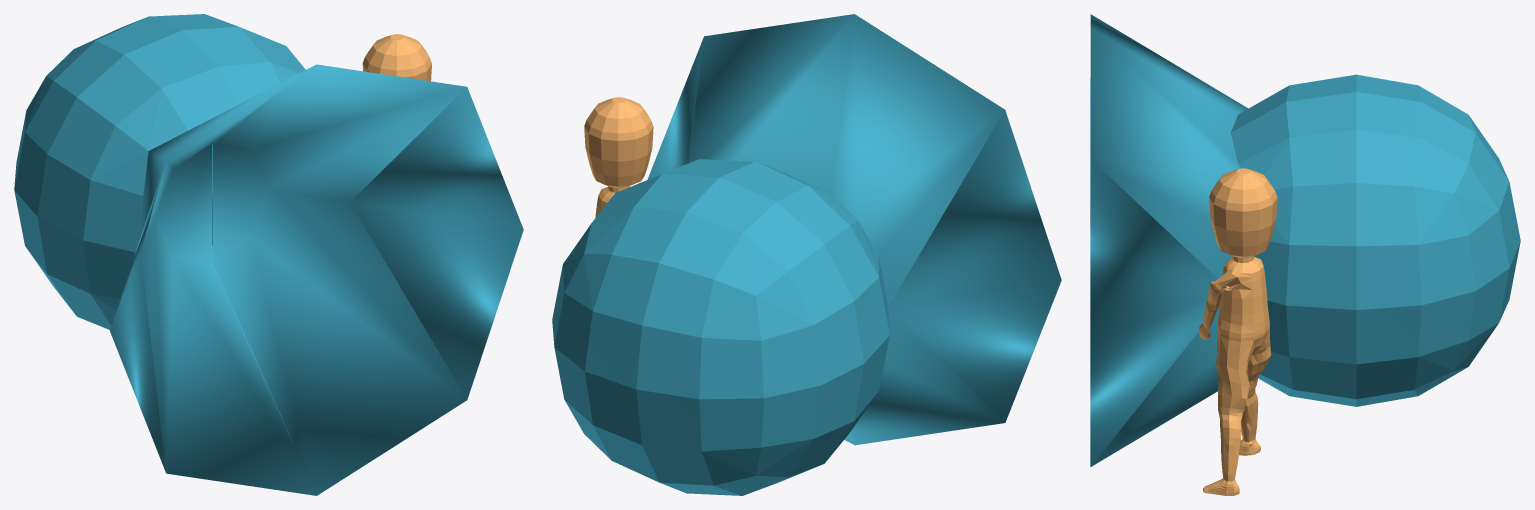
File: collect.obj
3 renders of one model, left to right at view 1: azimuth 30°, elevation 25°; view 2: azimuth 150°, elevation 25°; view 3: azimuth 270°, elevation 25°, orthographic.
Parts seen in each view (by area): view 1: 立方体.001, 胴_円.003; view 2: 立方体.001, 胴_円.003; view 3: 立方体.001, 胴_円.003.
Boxes of the visible parts, <box> form: 立方体.001: <box>14,14,523,495</box>; 胴_円.003: <box>362,34,431,81</box>; 立方体.001: <box>552,14,1061,495</box>; 胴_円.003: <box>584,97,653,217</box>; 立方体.001: <box>1090,14,1520,467</box>; 胴_円.003: <box>1198,168,1277,495</box>.
Size of the model in its own units: 2.37 by 2.36 by 2.16.
2 materials, 2 textured.
